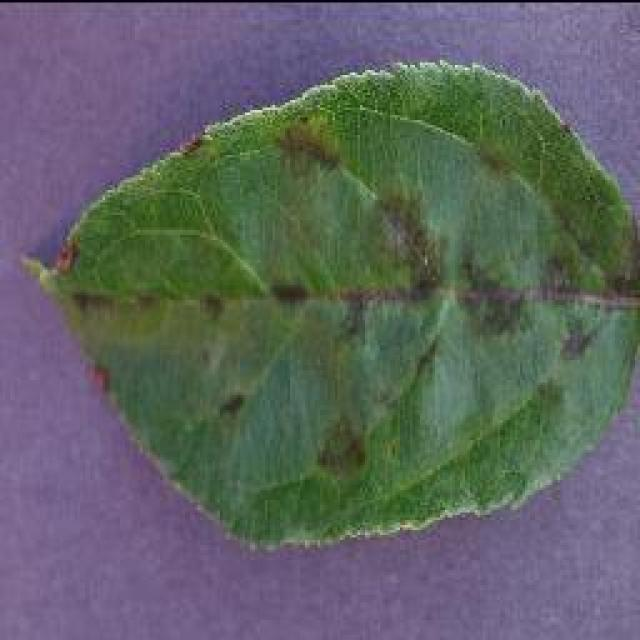apple scab disease: (20, 55, 638, 553)
